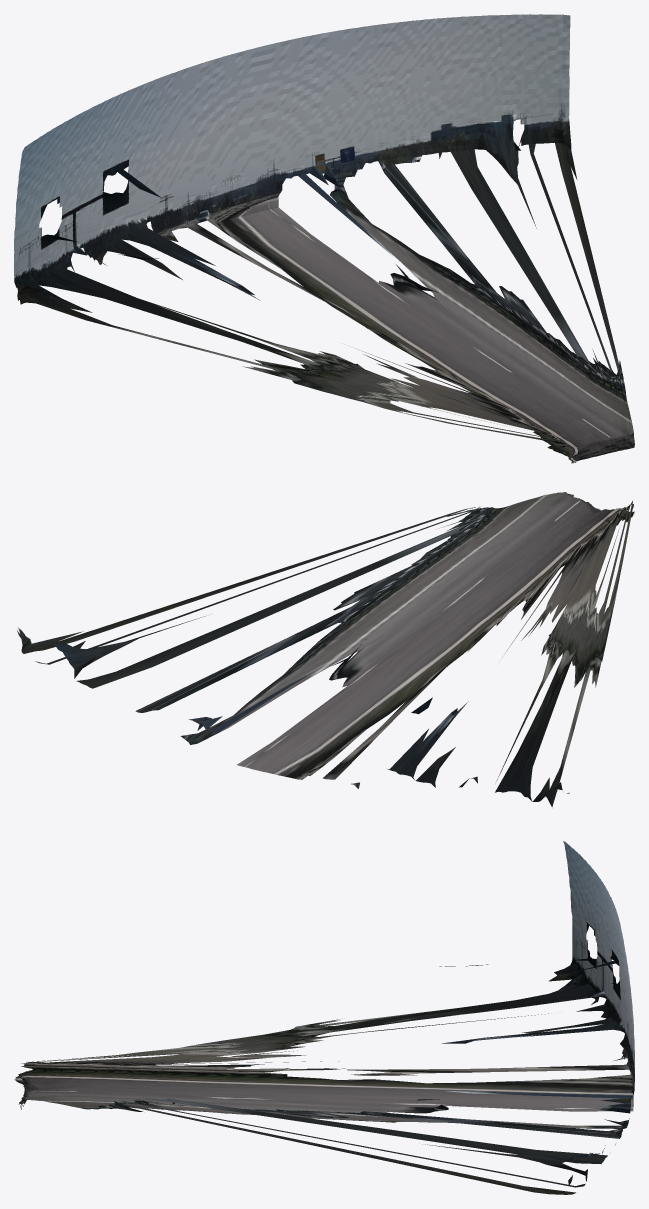
3 renders of one model, top to bottom at view 1: azimuth 30°, elevation 25°; view 2: azimuth 150°, elevation 25°; view 3: azimuth 270°, elevation 25°, orthographic. The views are drawn at different scales.
Visible parts, largest first — view 1: defaultobject; view 2: defaultobject; view 3: defaultobject.
Boxes of the visible parts, <box> form: defaultobject: <box>14,14,634,463</box>; defaultobject: <box>17,492,634,807</box>; defaultobject: <box>14,841,634,1194</box>.
Size of the model in its own units: 41.14 by 12.41 by 44.67.
1 material, 1 textured.
